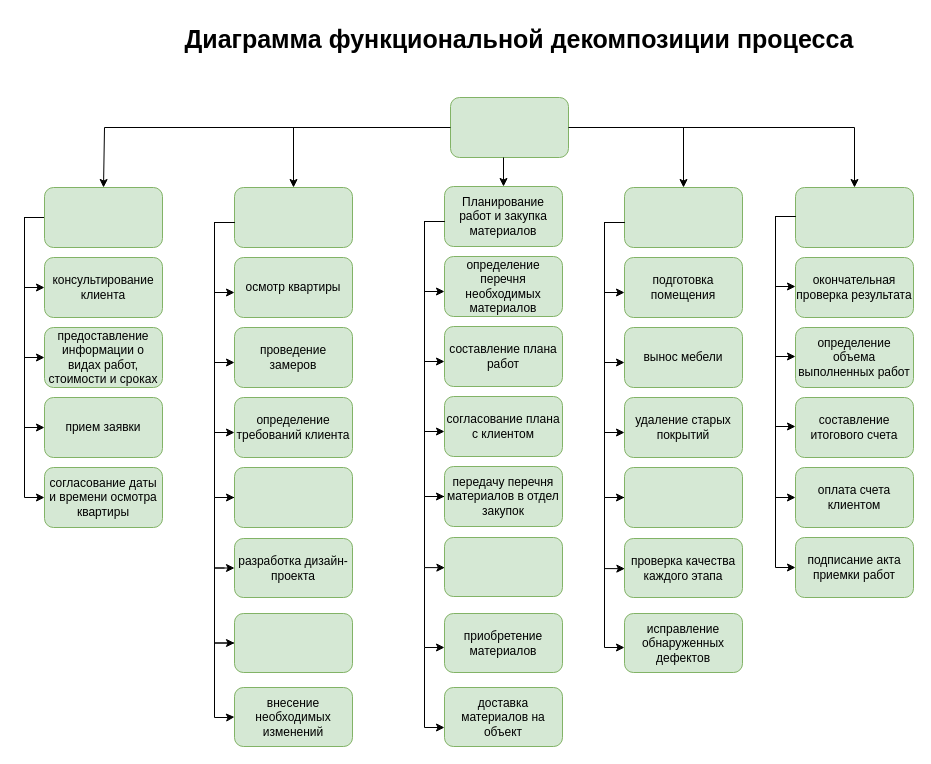
Some shapes in this 931 by 764 pixel diagram are drawn without their labels. The shapes that lost their labels are listed below. From the top down, each one's centre as x and y in pixels, then its label:
the point at 509,127: Организация и выполнение ремонта квартиры
the point at 103,217: Прием и оформление заявки
the point at 293,217: Обследование квартиры и разработка проекта
the point at 683,217: Выполнение ремонтных работ
the point at 854,217: Приемка и завершение ремонта
the point at 293,497: заключение договора
the point at 683,497: выполнение ремонтных работ по этапам
the point at 503,566: оформление счета
the point at 293,642: согласование проекта
